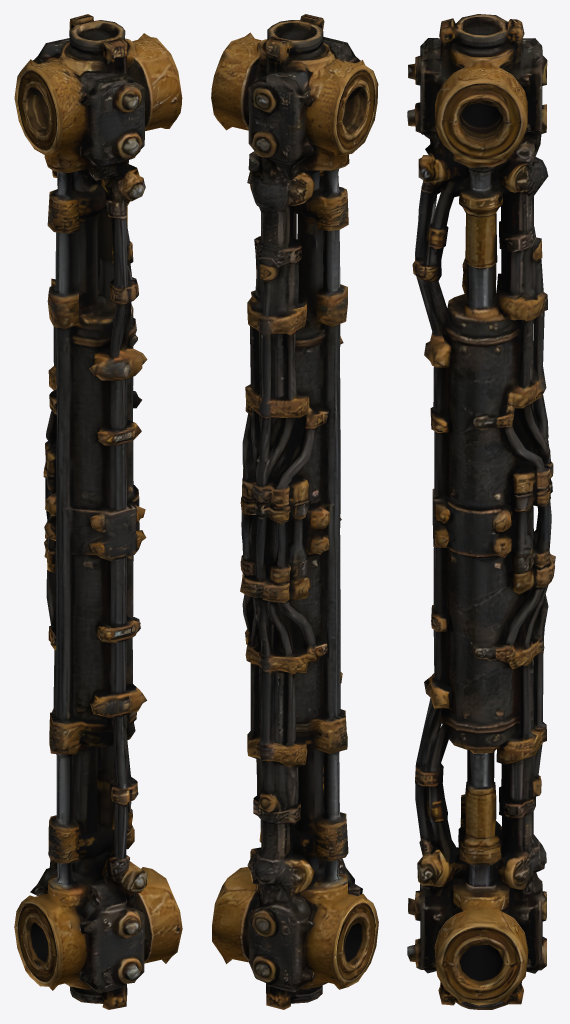
The model's file is raw_segment.glb.
3 renders of one model, left to right at view 1: azimuth 30°, elevation 25°; view 2: azimuth 150°, elevation 25°; view 3: azimuth 270°, elevation 25°, orthographic.
Visible parts, largest first — view 1: tripo_node_5975c375-d600-48e2-a113-b089f0ac87a0; view 2: tripo_node_5975c375-d600-48e2-a113-b089f0ac87a0; view 3: tripo_node_5975c375-d600-48e2-a113-b089f0ac87a0.
Part boxes in pixels (<box>): tripo_node_5975c375-d600-48e2-a113-b089f0ac87a0: <box>14,14,182,1009</box>; tripo_node_5975c375-d600-48e2-a113-b089f0ac87a0: <box>211,14,378,1009</box>; tripo_node_5975c375-d600-48e2-a113-b089f0ac87a0: <box>407,14,555,1009</box>.
Size of the model in its own units: 0.1335 by 1 by 0.1377.
Materials: 1 (1 with a texture image).
